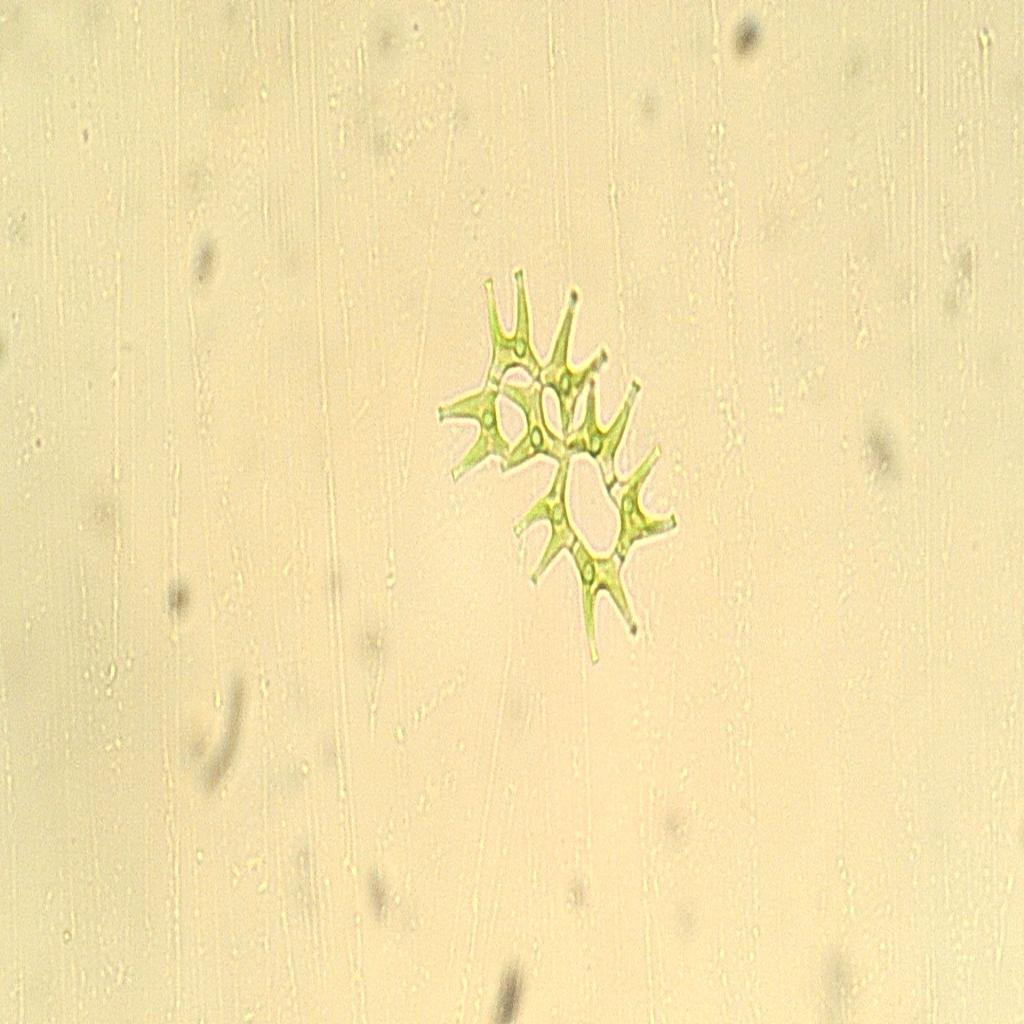Pediastrum_CFI: (430, 248, 688, 682)
